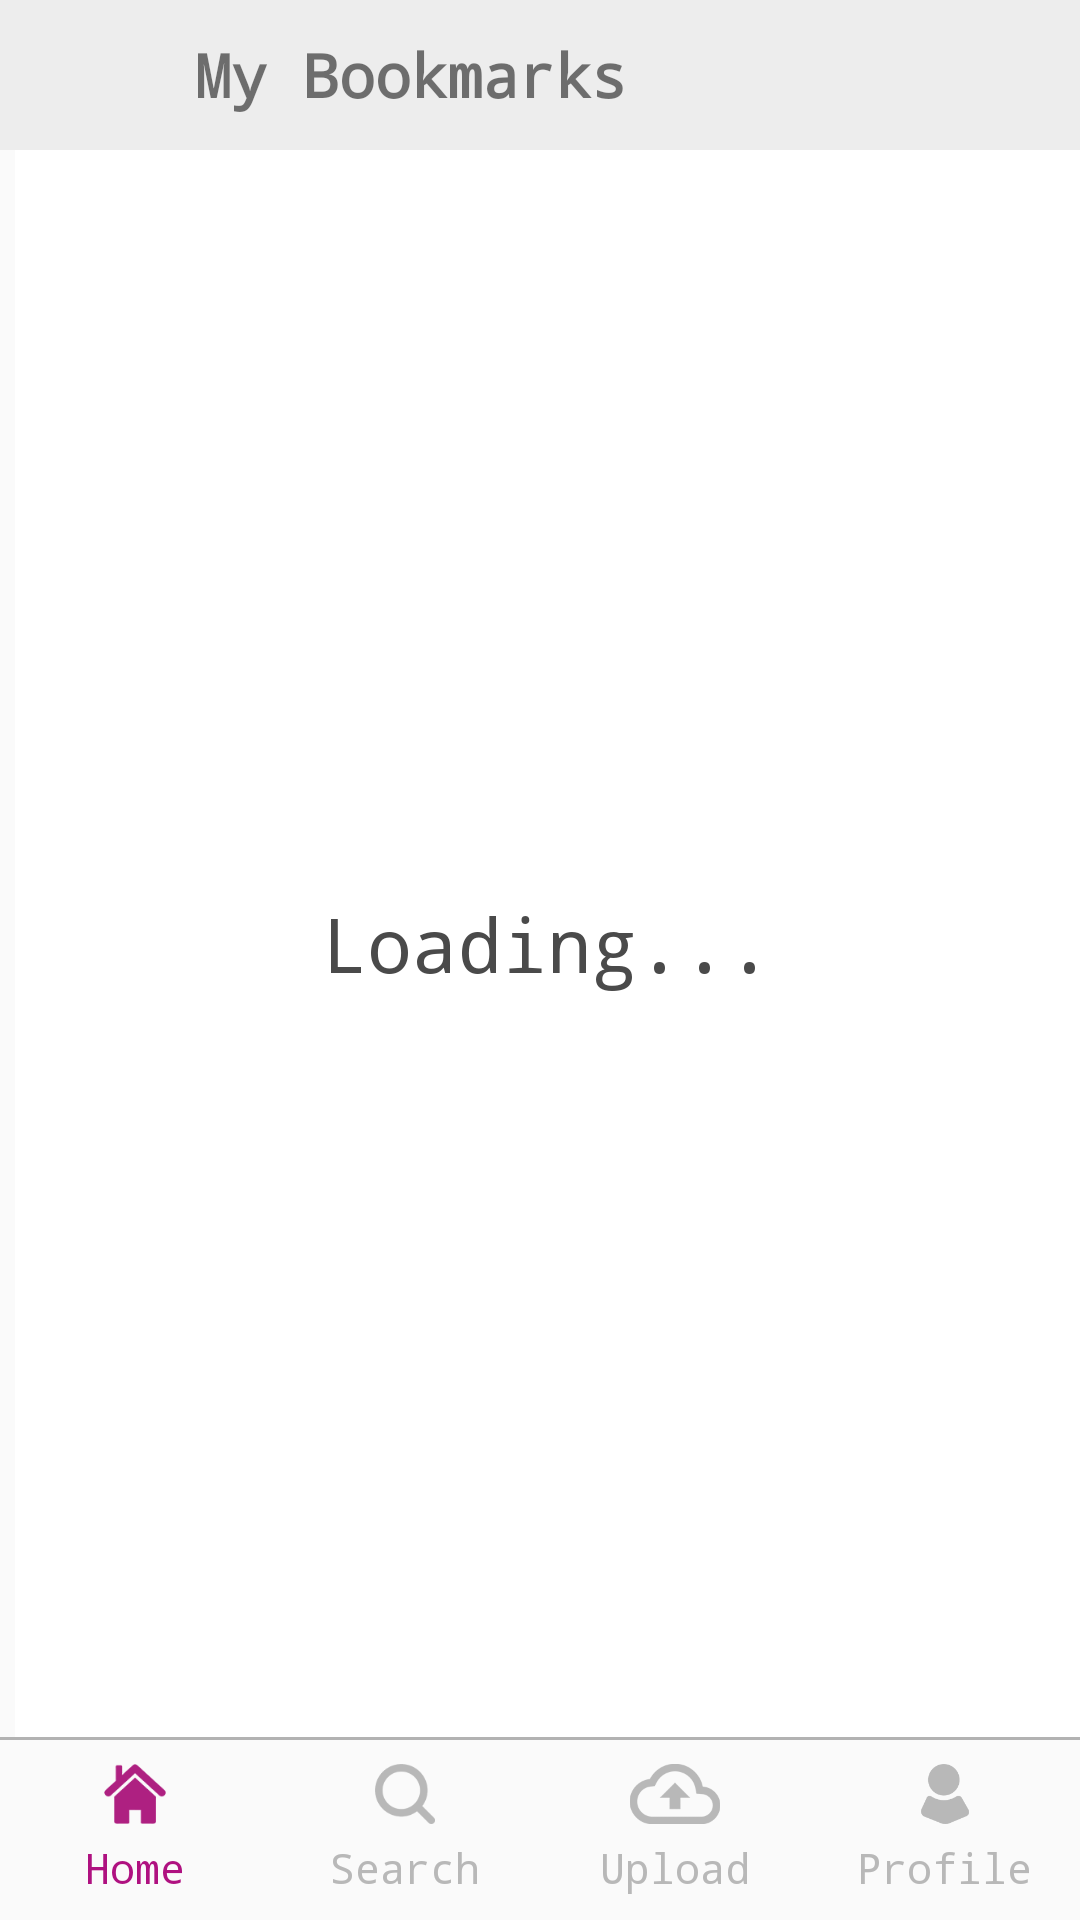

Icon click points for this 1080x1920 phone screenshot, format (x,y):
user: (945,1794)
